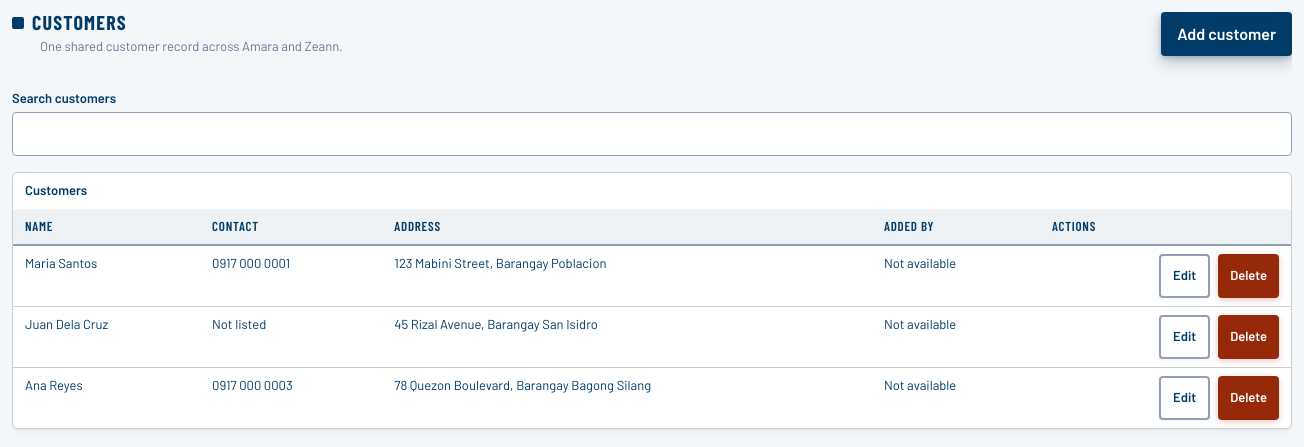
Scenario: CustomerListPage › deletes a customer as admin (DEC-053)
The width and height of the screenshot is (1304, 447).
Expected: the text "Maria Santos" is shown, x1=13 y1=245 x2=200 y2=307
Expected: the button "Delete" in the row of "Maria Santos" is shown, x1=1218 y1=254 x2=1279 y2=298
Click the button "Delete" in the row of "Ana Reyes". click: point(1249, 398)
box: x1=1218 y1=376 x2=1279 y2=420
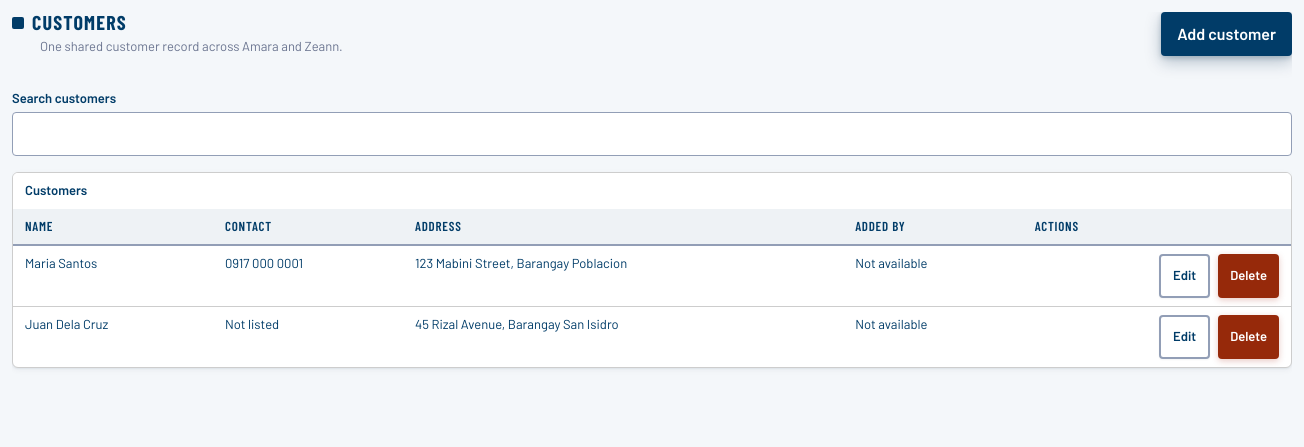
Now the text "Ana Reyes" is gone
